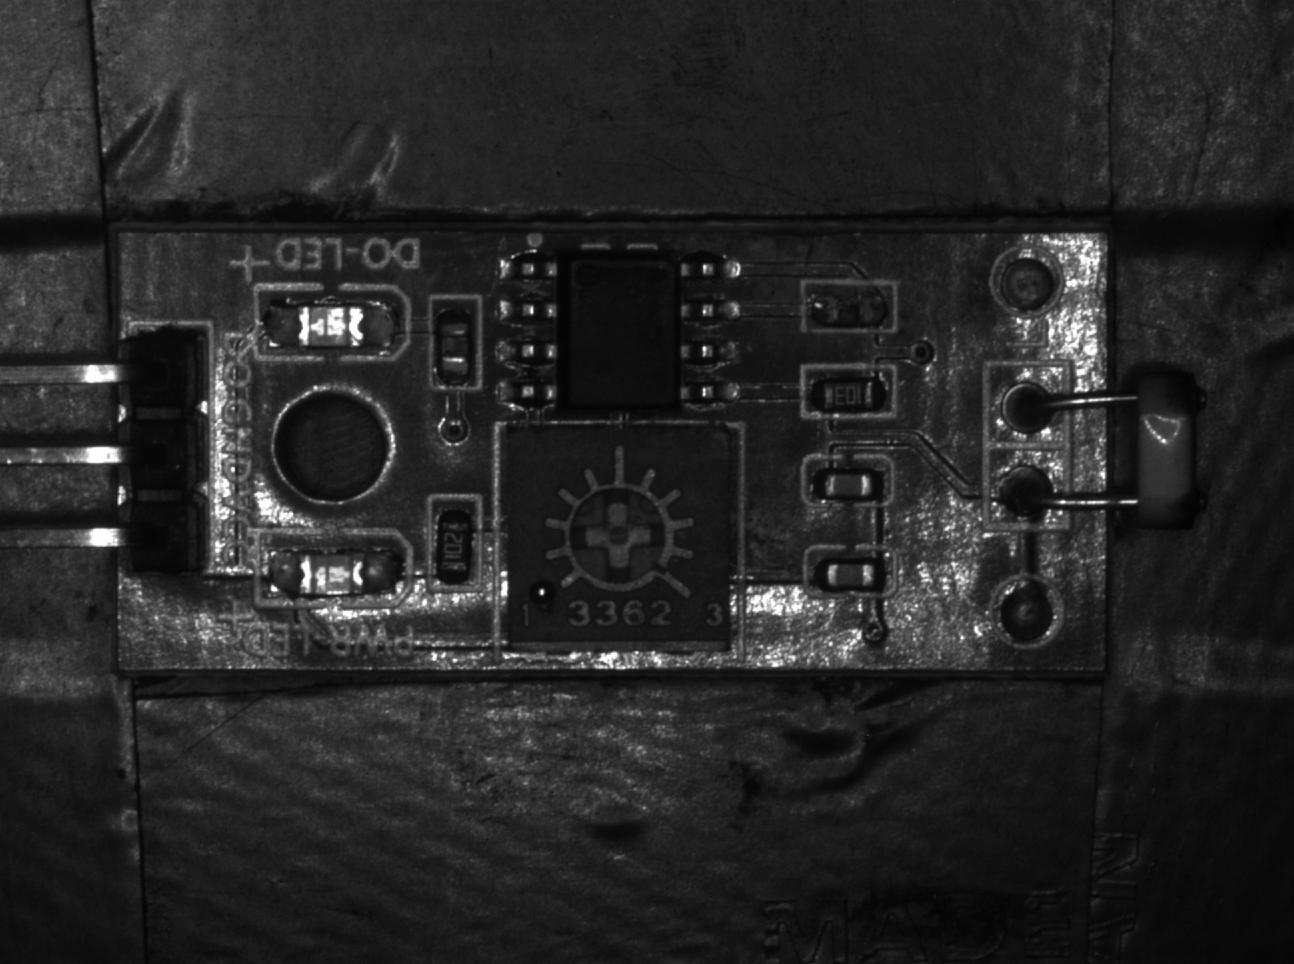miss: (800, 279, 896, 336), (428, 295, 484, 390)
ok: (799, 366, 896, 420), (800, 546, 898, 599), (803, 454, 895, 510), (428, 496, 481, 591)
